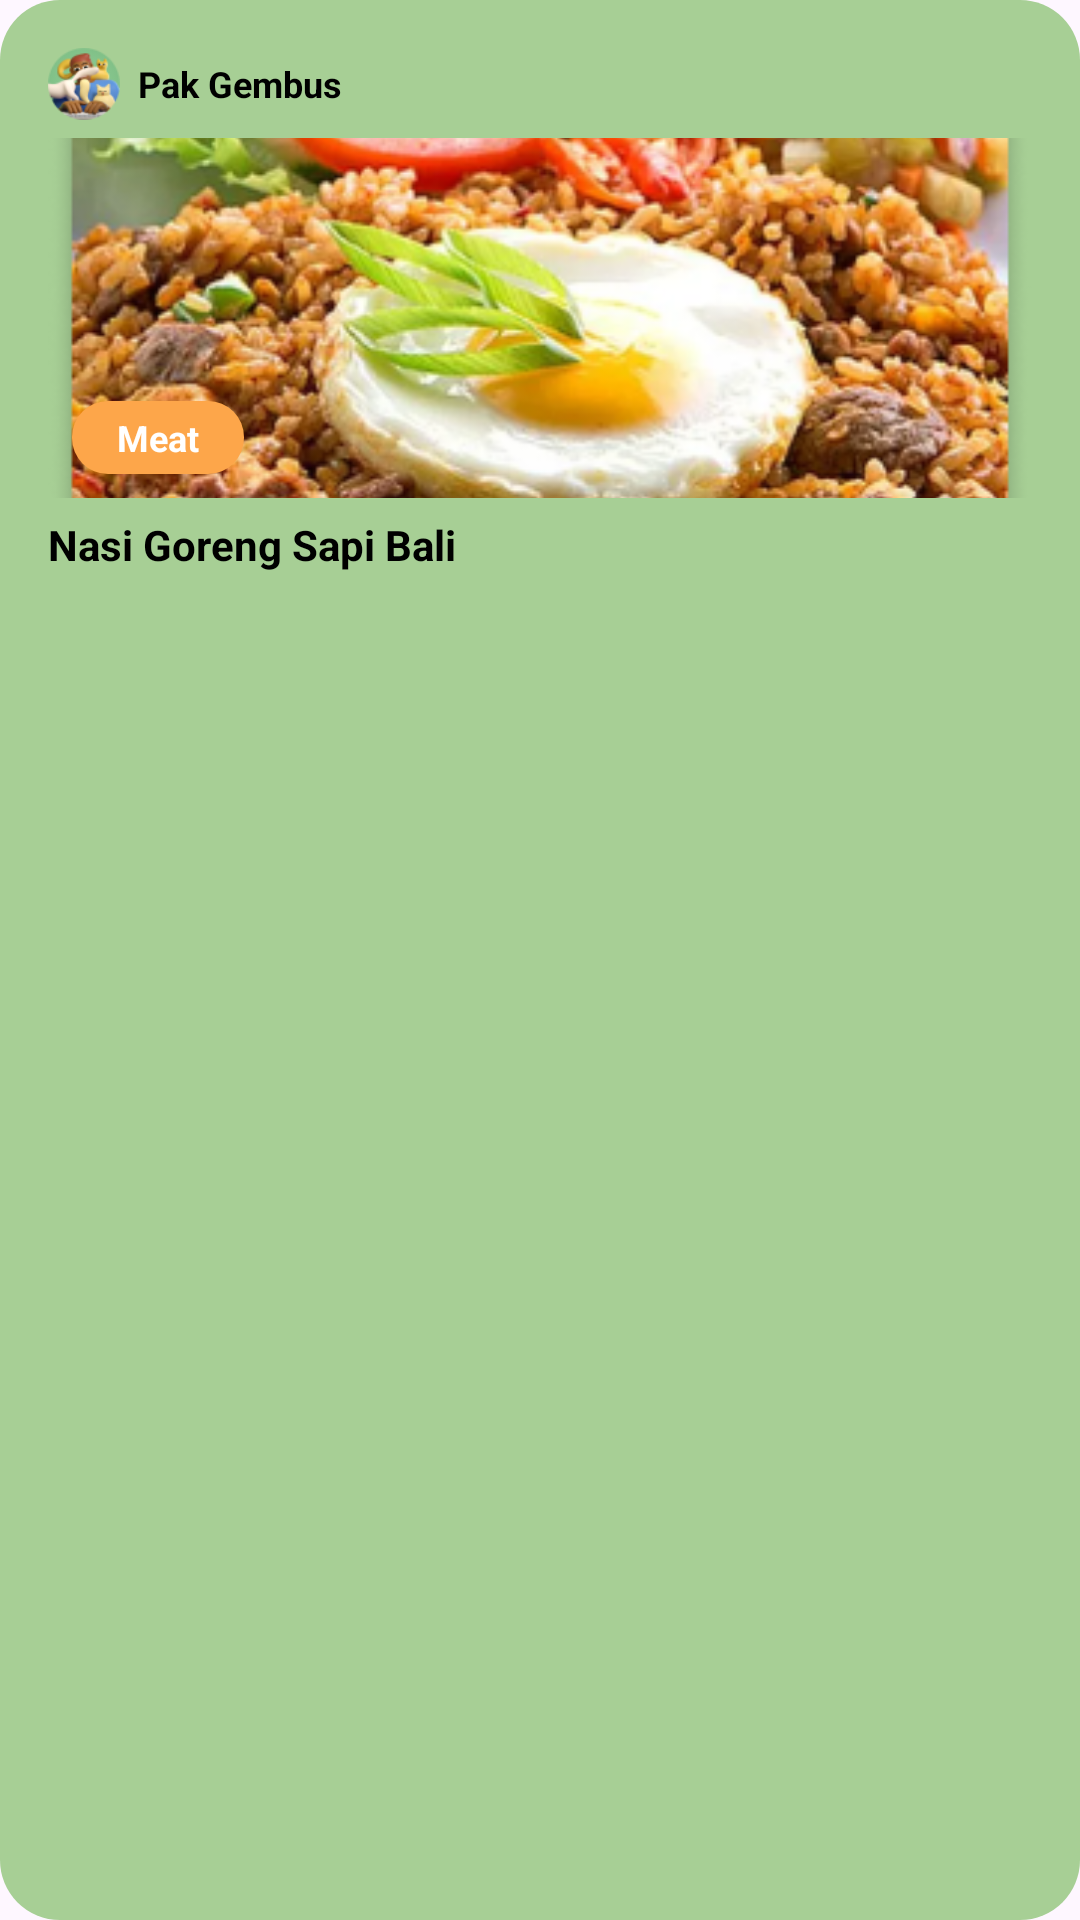

Icon bounding boxes for this 1080*1920 phone screenshot, format {"x1": x1, "y1": y1, "x2": x2, "y2": y2}:
user temporary: {"x1": 48, "y1": 48, "x2": 120, "y2": 120}
